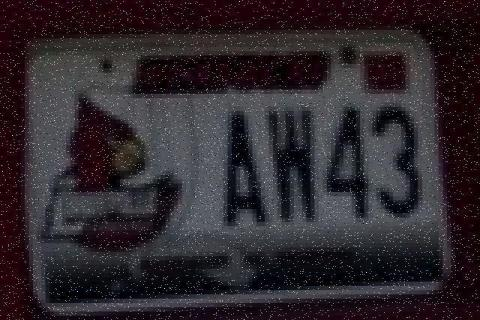LicensePlate: (14, 14, 458, 304)
